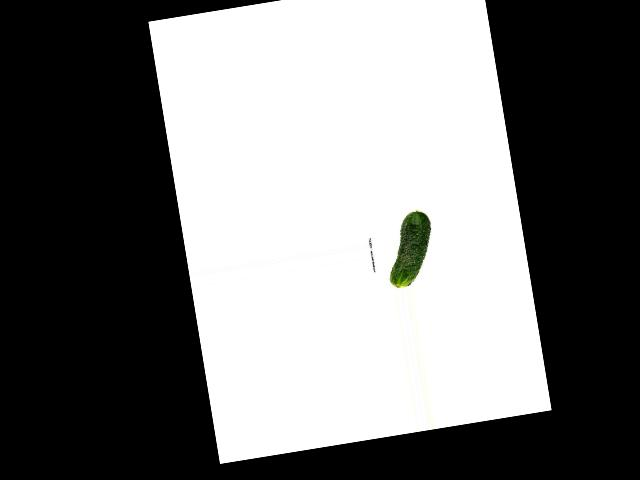cucumber: (379, 208, 439, 288)
